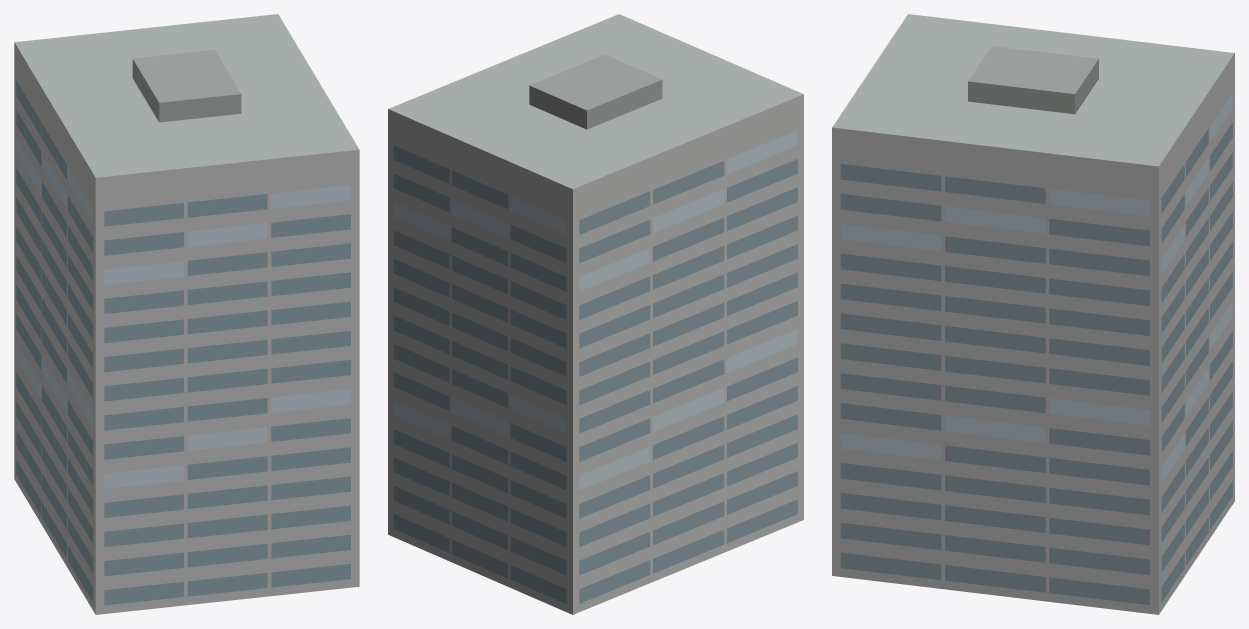
File: fallback-olympic-park-foreon-304.glb
3 views of the same model, side by side, from view 1: azimuth 30°, elevation 25°; view 2: azimuth 150°, elevation 25°; view 3: azimuth 270°, elevation 25° (orthographic). The views are drawn at different scales.
Visible parts, largest first — view 1: fallback-olympic-park-foreon-304; view 2: fallback-olympic-park-foreon-304; view 3: fallback-olympic-park-foreon-304.
Boxes of the visible parts, x1,y1,x2,y2 form: fallback-olympic-park-foreon-304: (14, 14, 359, 614); fallback-olympic-park-foreon-304: (388, 14, 803, 614); fallback-olympic-park-foreon-304: (832, 14, 1234, 614).
Size of the model in its own units: 33.38 by 47.81 by 37.24.
